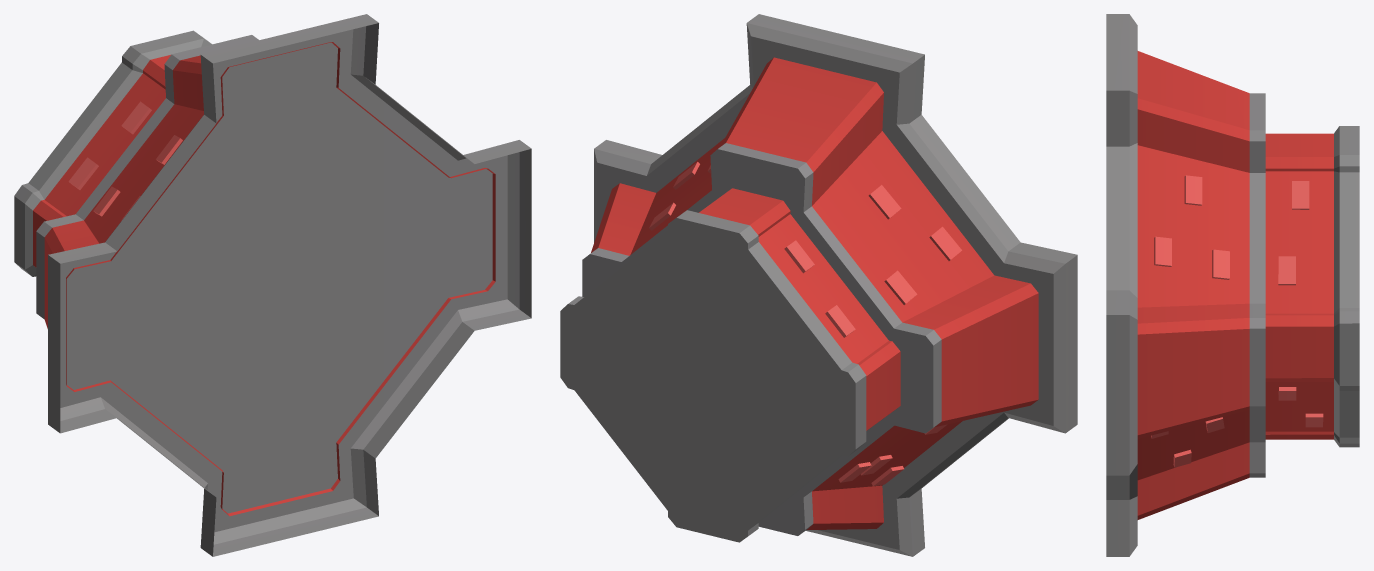
File: MayorStatue_Base_D.glb
3 views of the same model, side by side, from view 1: azimuth 30°, elevation 25°; view 2: azimuth 150°, elevation 25°; view 3: azimuth 270°, elevation 25° (orthographic). The views are drawn at different scales.
Visible parts, largest first — view 1: MayorStatue_Base_D; view 2: MayorStatue_Base_D; view 3: MayorStatue_Base_D.
Part boxes in pixels (<box>): MayorStatue_Base_D: <box>14,14,531,556</box>; MayorStatue_Base_D: <box>560,14,1077,556</box>; MayorStatue_Base_D: <box>1106,14,1359,556</box>.
Size of the model in its own units: 11.44 by 11.44 by 5.63.
1 material, 1 textured.
